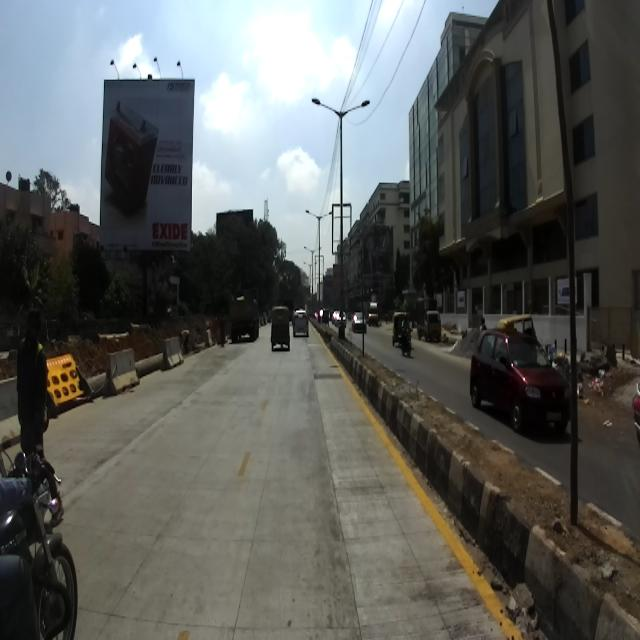auto ahead at: (268, 303, 293, 356)
barrier ahead at: (104, 344, 140, 394)
